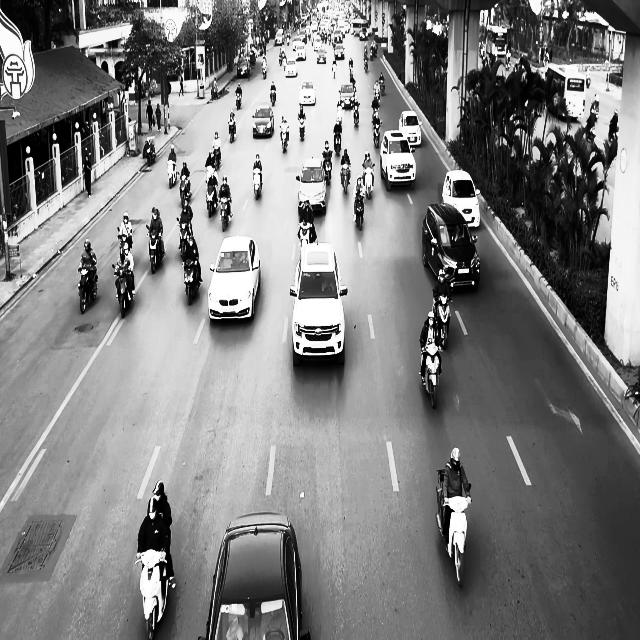bus: (545, 64, 586, 120), (485, 25, 510, 61)
car: (197, 512, 311, 640), (290, 242, 348, 367), (422, 202, 481, 291), (208, 234, 260, 321), (442, 170, 480, 228), (380, 130, 416, 191), (296, 157, 326, 215), (398, 110, 422, 148), (252, 104, 274, 138), (338, 82, 356, 109), (298, 80, 317, 105), (236, 57, 251, 78), (284, 58, 297, 77), (316, 47, 327, 63), (334, 43, 345, 59)
motorbike: (435, 468, 472, 586), (135, 548, 171, 640), (420, 341, 442, 408), (112, 263, 135, 318), (432, 290, 451, 349), (181, 257, 202, 305), (145, 224, 165, 274), (78, 266, 98, 314), (177, 216, 191, 259), (205, 179, 218, 217), (117, 226, 132, 258), (219, 196, 232, 231), (362, 164, 374, 199), (353, 194, 364, 230), (252, 166, 263, 199), (340, 161, 351, 193), (166, 160, 177, 188), (145, 137, 156, 165), (323, 153, 332, 184), (372, 120, 382, 147), (279, 126, 289, 152), (333, 127, 342, 155), (297, 114, 306, 140), (212, 144, 221, 170), (228, 118, 236, 143), (352, 102, 360, 126), (235, 91, 242, 110), (363, 54, 369, 72), (270, 90, 276, 106), (262, 63, 266, 79), (332, 64, 336, 78)
